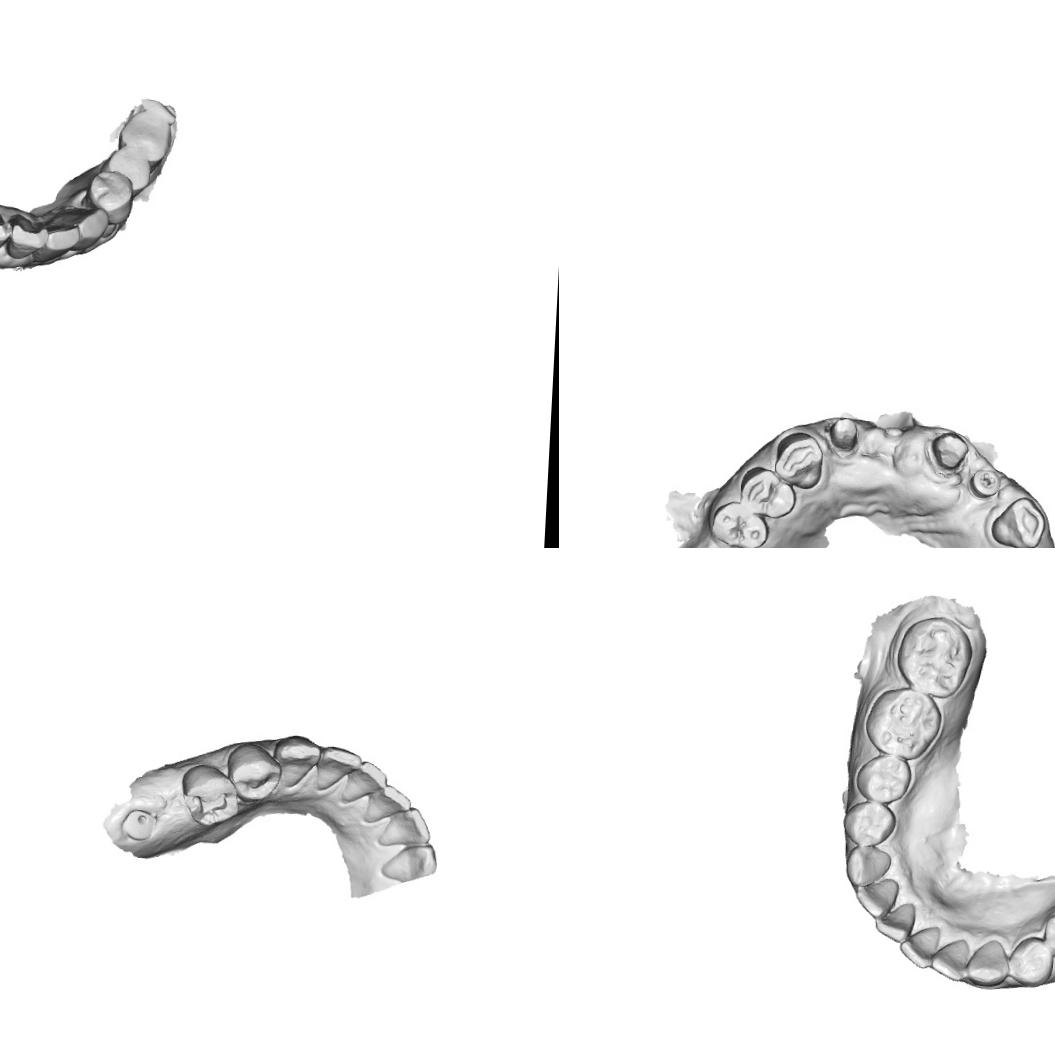canine: (988, 493, 1048, 548), (772, 427, 824, 490), (271, 732, 322, 790), (378, 842, 438, 882), (964, 936, 1010, 988), (843, 842, 892, 889), (61, 205, 111, 251)
crown: (926, 426, 972, 473), (824, 414, 860, 457)
implant: (118, 806, 158, 842)
implant_plus: (967, 464, 1003, 500)
incisor: (376, 804, 432, 850), (314, 744, 362, 793), (340, 759, 388, 805), (896, 922, 942, 970), (4, 210, 46, 262), (852, 875, 898, 921), (362, 783, 412, 825), (927, 936, 971, 982), (40, 216, 81, 264), (873, 900, 917, 944), (0, 205, 10, 257)
molar: (892, 611, 974, 700), (862, 683, 944, 761), (115, 107, 174, 168)
premolar: (176, 761, 241, 827), (224, 740, 283, 804), (736, 464, 798, 520), (853, 751, 913, 805), (706, 498, 769, 548), (84, 168, 136, 224), (840, 798, 898, 848), (1004, 934, 1055, 988), (99, 147, 151, 193), (1039, 903, 1055, 966)
